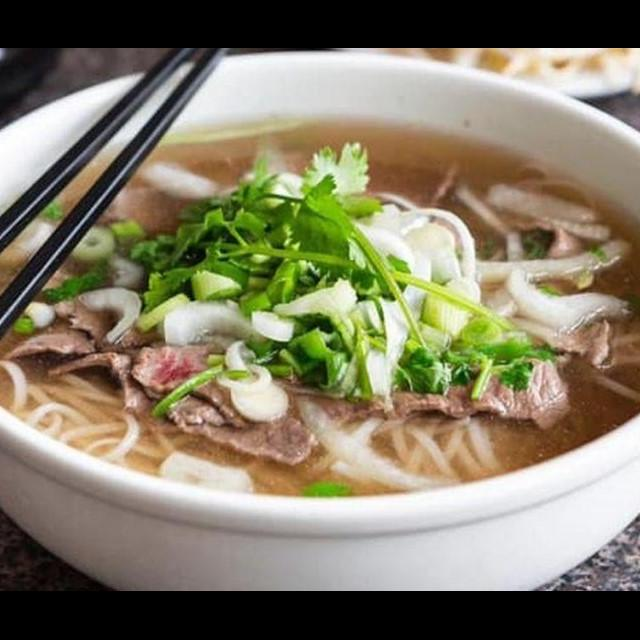banh pho: (0, 353, 180, 481), (348, 402, 514, 493)
pho bo: (0, 95, 640, 591)
thit bo: (124, 336, 366, 471), (312, 334, 578, 436), (0, 276, 171, 372)
